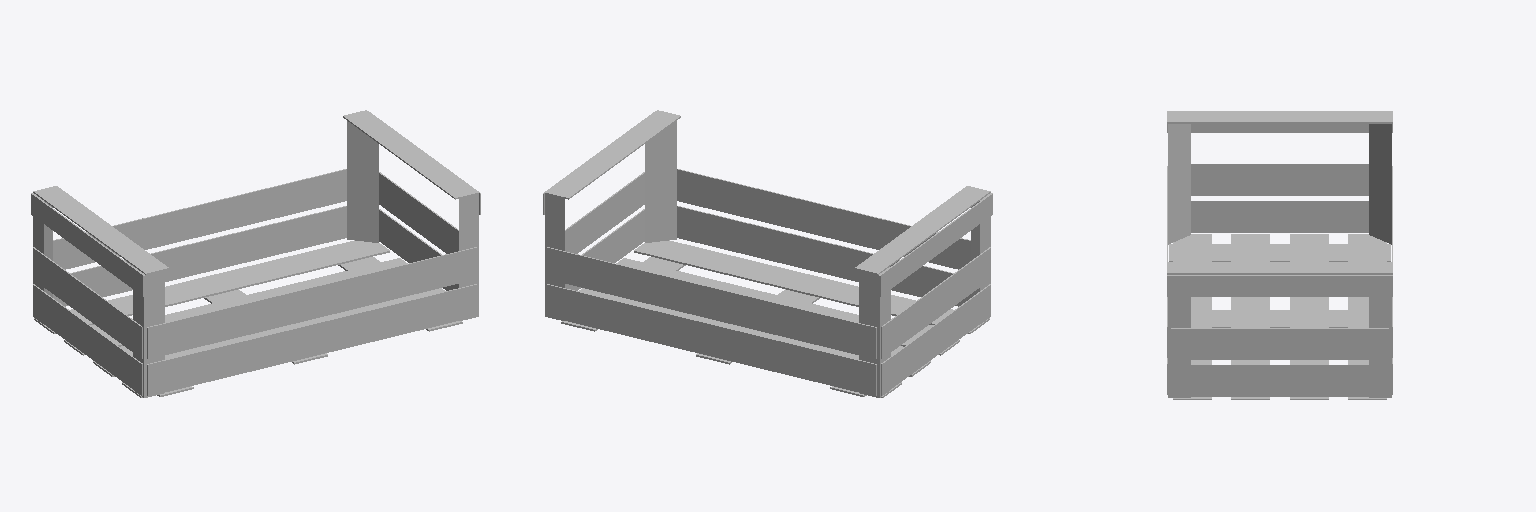
The model's file is Crate-01-01.obj.
The picture shows the model from 3 angles: view 1: azimuth 30°, elevation 25°; view 2: azimuth 150°, elevation 25°; view 3: azimuth 270°, elevation 25°; orthographic projection.
Parts seen in each view (by area): view 1: Crate-01; view 2: Crate-01; view 3: Crate-01.
Boxes of the visible parts, box(x1,y1,x2,y2) form: Crate-01: box(31, 110, 480, 397); Crate-01: box(543, 110, 992, 397); Crate-01: box(1167, 111, 1392, 399).
Size of the model in its own units: 0.502 by 0.182 by 0.292.